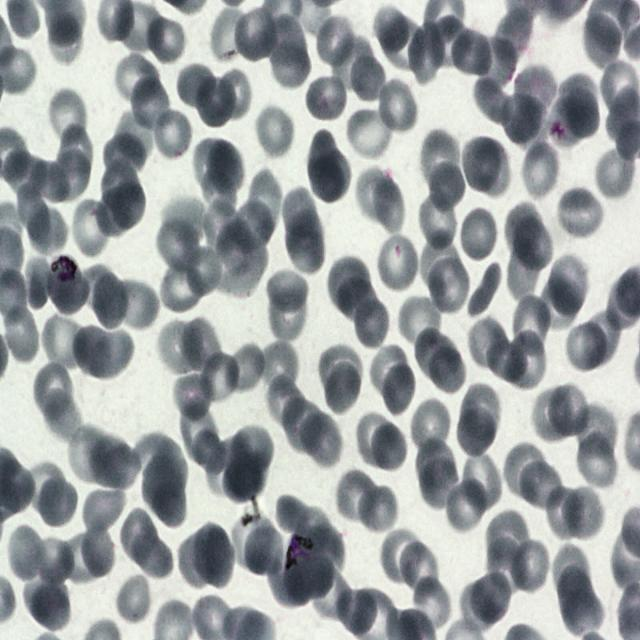red blood cell: (554, 567, 605, 639), (186, 515, 233, 591), (136, 432, 189, 497), (305, 132, 351, 204), (460, 133, 510, 197), (152, 214, 206, 272), (143, 462, 189, 530), (44, 138, 92, 203), (544, 252, 590, 319), (296, 406, 343, 471), (416, 441, 460, 510), (282, 206, 325, 276), (239, 516, 286, 579), (88, 265, 131, 333), (374, 231, 420, 294), (420, 128, 462, 197), (24, 573, 72, 633), (426, 251, 470, 316), (502, 326, 546, 391), (95, 180, 144, 238), (458, 450, 502, 513), (158, 259, 207, 315), (71, 195, 111, 263), (176, 316, 221, 376), (406, 22, 448, 86), (443, 476, 489, 534), (23, 201, 68, 260), (495, 94, 544, 148), (34, 469, 78, 529), (544, 381, 590, 438), (244, 168, 284, 233), (556, 186, 604, 240), (346, 107, 394, 161), (398, 536, 439, 599), (408, 396, 451, 456), (560, 72, 600, 136), (210, 4, 250, 68), (466, 314, 510, 372), (507, 536, 551, 594), (157, 318, 201, 376), (518, 459, 566, 512), (113, 53, 160, 107), (208, 436, 252, 493), (576, 431, 617, 492), (334, 583, 381, 636), (512, 63, 558, 117), (472, 75, 518, 129), (117, 1, 163, 55), (1, 300, 41, 362), (327, 254, 372, 309), (32, 359, 72, 420), (48, 88, 88, 149), (71, 420, 110, 482), (7, 524, 47, 584), (90, 438, 138, 488), (0, 149, 48, 199), (377, 78, 419, 135), (584, 7, 622, 70), (337, 468, 379, 525), (210, 68, 252, 125), (473, 37, 518, 90), (450, 24, 494, 78), (82, 486, 126, 540), (396, 296, 440, 350), (119, 506, 159, 565), (352, 287, 390, 349), (178, 402, 216, 464), (254, 103, 296, 159), (315, 12, 357, 68), (90, 332, 138, 381), (260, 15, 306, 66), (115, 277, 158, 331), (284, 396, 324, 454), (552, 544, 592, 602), (304, 72, 349, 123), (151, 106, 193, 160), (235, 8, 277, 62), (312, 562, 351, 620), (410, 578, 451, 633), (459, 206, 499, 262), (356, 167, 396, 223), (454, 404, 496, 457), (197, 350, 239, 403), (493, 6, 532, 63), (176, 60, 217, 114), (266, 374, 307, 428), (177, 535, 216, 591), (486, 536, 525, 592), (18, 182, 51, 248), (381, 530, 422, 583), (172, 368, 212, 422), (542, 276, 582, 330), (506, 241, 542, 301), (460, 386, 500, 440), (415, 329, 459, 378), (511, 296, 548, 354), (45, 390, 83, 446), (427, 15, 467, 68), (30, 540, 76, 586), (231, 428, 275, 476), (222, 455, 266, 503), (465, 260, 504, 314), (272, 42, 314, 92), (42, 315, 83, 366), (182, 245, 222, 297), (116, 572, 154, 626), (506, 444, 546, 495), (198, 75, 237, 127), (102, 130, 146, 176), (487, 513, 530, 560), (207, 139, 243, 195), (232, 199, 274, 247), (258, 340, 296, 393), (566, 489, 604, 542), (532, 392, 572, 442), (195, 135, 232, 189), (512, 217, 551, 268), (574, 401, 612, 453), (522, 142, 556, 200), (80, 522, 114, 580), (114, 111, 154, 160), (460, 584, 500, 633), (566, 322, 605, 372), (326, 360, 362, 414), (132, 78, 168, 132), (360, 484, 398, 535), (319, 344, 361, 390), (550, 97, 591, 144), (59, 535, 99, 583), (420, 192, 454, 248), (584, 312, 622, 362), (370, 344, 408, 394), (228, 341, 265, 392), (331, 36, 372, 82), (505, 204, 541, 256), (148, 15, 186, 64), (102, 161, 140, 210), (388, 20, 425, 70), (602, 62, 638, 113), (282, 186, 318, 237), (134, 534, 173, 581), (471, 574, 509, 622), (266, 293, 308, 336), (428, 160, 466, 207), (338, 280, 376, 327), (550, 483, 583, 537), (596, 147, 632, 196), (48, 15, 84, 64), (359, 416, 394, 466), (488, 338, 526, 384), (374, 9, 411, 56), (430, 347, 466, 394), (382, 363, 415, 414), (72, 326, 106, 375), (267, 271, 307, 312), (199, 174, 238, 216), (274, 494, 313, 535), (373, 423, 405, 472), (375, 180, 405, 232), (32, 163, 71, 203), (350, 53, 382, 101), (192, 430, 225, 476), (23, 262, 51, 311)
trophozoite: (282, 531, 332, 603), (48, 256, 92, 318)
